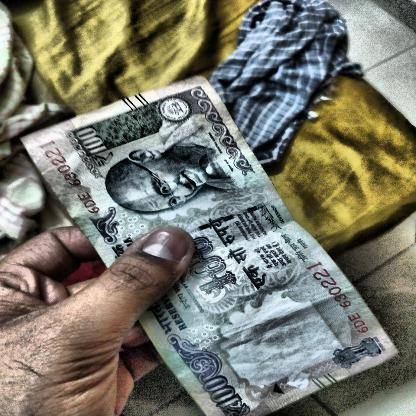Rs100: (196, 369, 256, 416), (70, 122, 120, 170)
